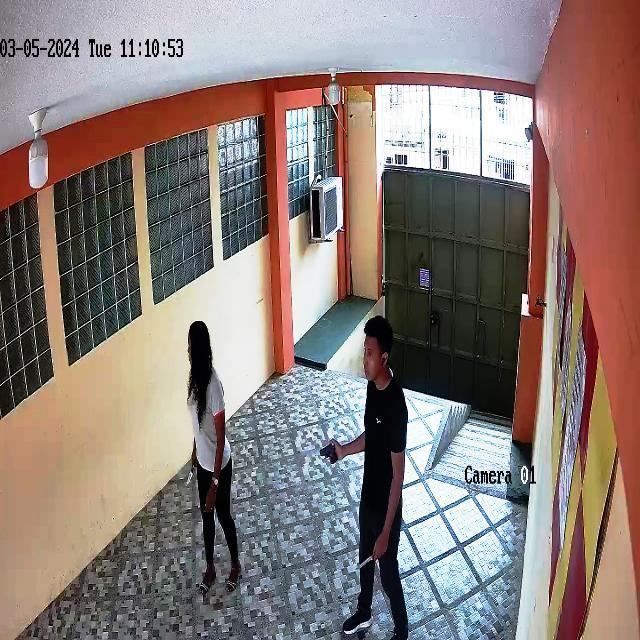Gun: (309, 429, 348, 473)
Knife: (346, 547, 389, 583), (178, 458, 210, 495)
